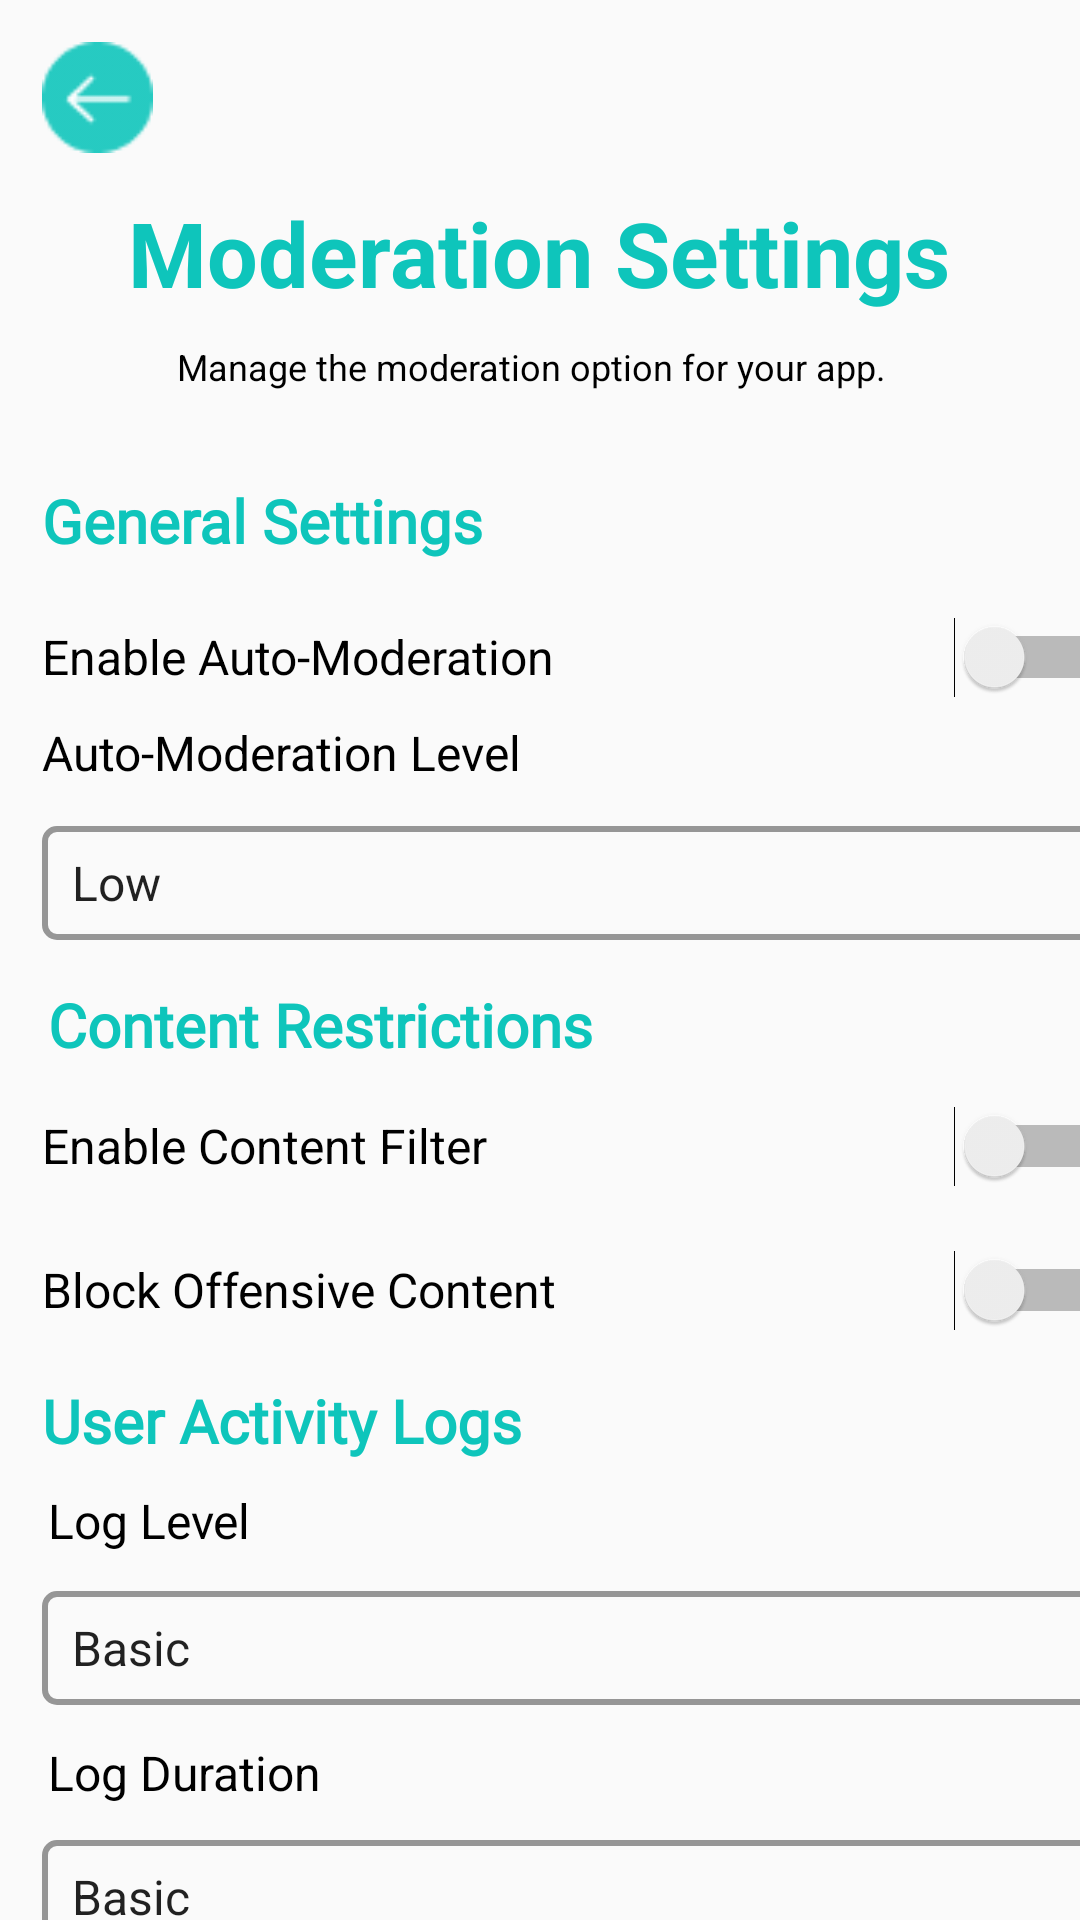

Icon click points for this 1080 × 1920 phone screenshot, format (x,y):
backblue: (97,97)
